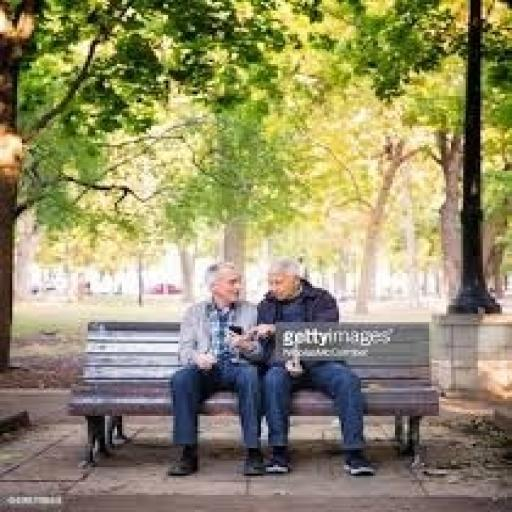sitting: (164, 252, 380, 478), (163, 258, 266, 478)
